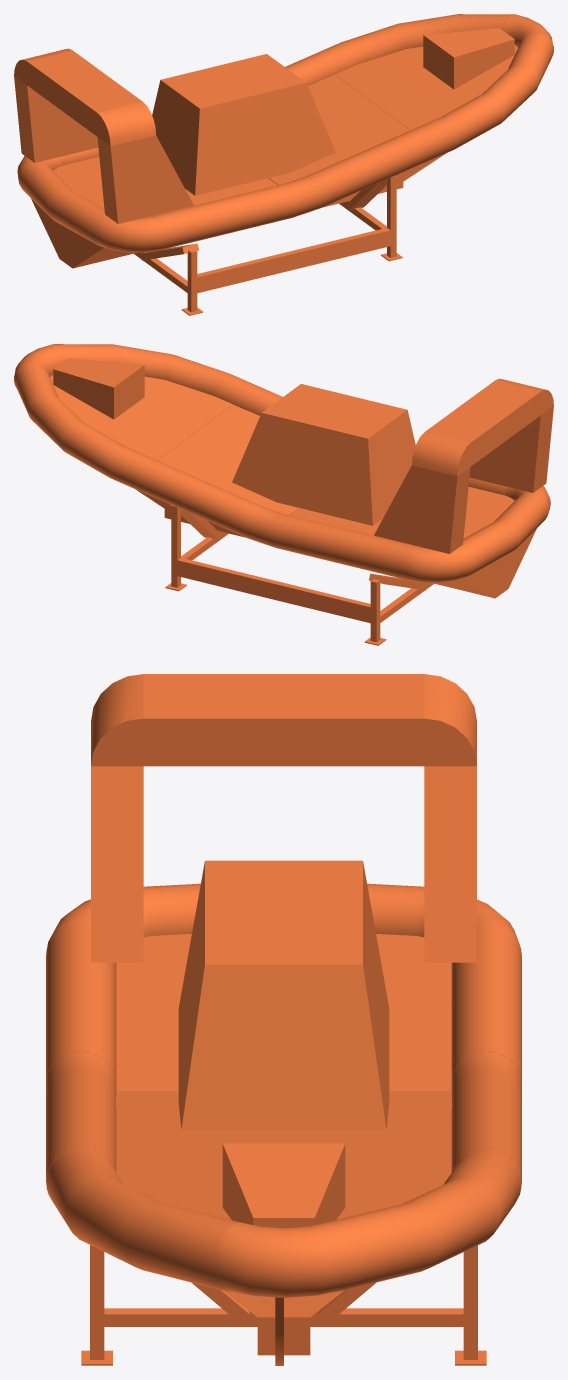
File: Image-1710907724662-2280941970352_76-SA52-Moved.fbx
The picture shows the model from 3 angles, top to bottom: view 1: azimuth 30°, elevation 25°; view 2: azimuth 150°, elevation 25°; view 3: azimuth 270°, elevation 25°; orthographic projection. The views are drawn at different scales.
Parts seen in each view (by area): view 1: PYRAMID 1 of SUBEQUIPMENT 3 of EQUIPMENT /76-SA52-Moved, PYRAMID 5 of SUBEQUIPMENT 3 of EQUIPMENT /76-SA52-Moved, PYRAMID 8 of SUBEQUIPMENT 3 of EQUIPMENT /76-SA52-Moved, CYLINDER 3 of SUBEQUIPMENT 3 of EQUIPMENT /76-SA52-Moved, PYRAMID 4 of SUBEQUIPMENT 3 of EQUIPMENT /76-SA52-Moved, BOX 1 of SUBEQUIPMENT 3 of EQUIPMENT /76-SA52-Moved, CYLINDER 1 of SUBEQUIPMENT 3 of EQUIPMENT /76-SA52-Moved, CTORUS 5 of SUBEQUIPMENT 3 of EQUIPMENT /76-SA52-Moved, PYRAMID 3 of SUBEQUIPMENT 3 of EQUIPMENT /76-SA52-Moved, PYRAMID 2 of SUBEQUIPMENT 3 of EQUIPMENT /76-SA52-Moved, PYRAMID 7 of SUBEQUIPMENT 3 of EQUIPMENT /76-SA52-Moved, BOX 18 of SUBEQUIPMENT 4 of EQUIPMENT /76-SA52-Moved (+15 smaller); view 2: PYRAMID 1 of SUBEQUIPMENT 3 of EQUIPMENT /76-SA52-Moved, PYRAMID 5 of SUBEQUIPMENT 3 of EQUIPMENT /76-SA52-Moved, PYRAMID 7 of SUBEQUIPMENT 3 of EQUIPMENT /76-SA52-Moved, CYLINDER 4 of SUBEQUIPMENT 3 of EQUIPMENT /76-SA52-Moved, PYRAMID 4 of SUBEQUIPMENT 3 of EQUIPMENT /76-SA52-Moved, BOX 1 of SUBEQUIPMENT 3 of EQUIPMENT /76-SA52-Moved, CYLINDER 2 of SUBEQUIPMENT 3 of EQUIPMENT /76-SA52-Moved, CTORUS 6 of SUBEQUIPMENT 3 of EQUIPMENT /76-SA52-Moved, PYRAMID 3 of SUBEQUIPMENT 3 of EQUIPMENT /76-SA52-Moved, PYRAMID 2 of SUBEQUIPMENT 3 of EQUIPMENT /76-SA52-Moved, PYRAMID 8 of SUBEQUIPMENT 3 of EQUIPMENT /76-SA52-Moved, BOX 17 of SUBEQUIPMENT 4 of EQUIPMENT /76-SA52-Moved (+16 smaller); view 3: PYRAMID 1 of SUBEQUIPMENT 3 of EQUIPMENT /76-SA52-Moved, BOX 1 of SUBEQUIPMENT 3 of EQUIPMENT /76-SA52-Moved, PYRAMID 3 of SUBEQUIPMENT 3 of EQUIPMENT /76-SA52-Moved, PYRAMID 4 of SUBEQUIPMENT 3 of EQUIPMENT /76-SA52-Moved, CTORUS 5 of SUBEQUIPMENT 3 of EQUIPMENT /76-SA52-Moved, CTORUS 6 of SUBEQUIPMENT 3 of EQUIPMENT /76-SA52-Moved, PYRAMID 7 of SUBEQUIPMENT 3 of EQUIPMENT /76-SA52-Moved, PYRAMID 8 of SUBEQUIPMENT 3 of EQUIPMENT /76-SA52-Moved, PYRAMID 2 of SUBEQUIPMENT 3 of EQUIPMENT /76-SA52-Moved, CTORUS 9 of SUBEQUIPMENT 3 of EQUIPMENT /76-SA52-Moved, CYLINDER 1 of SUBEQUIPMENT 3 of EQUIPMENT /76-SA52-Moved, CYLINDER 2 of SUBEQUIPMENT 3 of EQUIPMENT /76-SA52-Moved (+15 smaller).
Part boxes in pixels (box(x1,y1,x2,y2)): PYRAMID 1 of SUBEQUIPMENT 3 of EQUIPMENT /76-SA52-Moved: box(152, 54, 335, 195); PYRAMID 5 of SUBEQUIPMENT 3 of EQUIPMENT /76-SA52-Moved: box(334, 45, 517, 130); PYRAMID 8 of SUBEQUIPMENT 3 of EQUIPMENT /76-SA52-Moved: box(97, 135, 193, 223); CYLINDER 3 of SUBEQUIPMENT 3 of EQUIPMENT /76-SA52-Moved: box(306, 117, 456, 208); PYRAMID 4 of SUBEQUIPMENT 3 of EQUIPMENT /76-SA52-Moved: box(268, 75, 410, 185); BOX 1 of SUBEQUIPMENT 3 of EQUIPMENT /76-SA52-Moved: box(27, 50, 142, 136); CYLINDER 1 of SUBEQUIPMENT 3 of EQUIPMENT /76-SA52-Moved: box(152, 184, 296, 249); CTORUS 5 of SUBEQUIPMENT 3 of EQUIPMENT /76-SA52-Moved: box(441, 33, 553, 148); PYRAMID 3 of SUBEQUIPMENT 3 of EQUIPMENT /76-SA52-Moved: box(31, 157, 277, 268); PYRAMID 2 of SUBEQUIPMENT 3 of EQUIPMENT /76-SA52-Moved: box(423, 28, 514, 89); PYRAMID 7 of SUBEQUIPMENT 3 of EQUIPMENT /76-SA52-Moved: box(14, 76, 98, 162); BOX 18 of SUBEQUIPMENT 4 of EQUIPMENT /76-SA52-Moved: box(197, 228, 390, 293); PYRAMID 1 of SUBEQUIPMENT 3 of EQUIPMENT /76-SA52-Moved: box(232, 384, 415, 525); PYRAMID 5 of SUBEQUIPMENT 3 of EQUIPMENT /76-SA52-Moved: box(50, 375, 233, 460); PYRAMID 7 of SUBEQUIPMENT 3 of EQUIPMENT /76-SA52-Moved: box(374, 465, 470, 553); CYLINDER 4 of SUBEQUIPMENT 3 of EQUIPMENT /76-SA52-Moved: box(111, 447, 261, 538); PYRAMID 4 of SUBEQUIPMENT 3 of EQUIPMENT /76-SA52-Moved: box(157, 405, 299, 515); BOX 1 of SUBEQUIPMENT 3 of EQUIPMENT /76-SA52-Moved: box(425, 380, 540, 466); CYLINDER 2 of SUBEQUIPMENT 3 of EQUIPMENT /76-SA52-Moved: box(271, 514, 414, 579); CTORUS 6 of SUBEQUIPMENT 3 of EQUIPMENT /76-SA52-Moved: box(14, 363, 126, 478); PYRAMID 3 of SUBEQUIPMENT 3 of EQUIPMENT /76-SA52-Moved: box(290, 487, 536, 598); PYRAMID 2 of SUBEQUIPMENT 3 of EQUIPMENT /76-SA52-Moved: box(53, 358, 144, 419); PYRAMID 8 of SUBEQUIPMENT 3 of EQUIPMENT /76-SA52-Moved: box(469, 406, 553, 492); BOX 17 of SUBEQUIPMENT 4 of EQUIPMENT /76-SA52-Moved: box(177, 558, 370, 623); PYRAMID 1 of SUBEQUIPMENT 3 of EQUIPMENT /76-SA52-Moved: box(178, 860, 389, 1129); BOX 1 of SUBEQUIPMENT 3 of EQUIPMENT /76-SA52-Moved: box(143, 674, 424, 766); PYRAMID 3 of SUBEQUIPMENT 3 of EQUIPMENT /76-SA52-Moved: box(116, 934, 451, 1090); PYRAMID 4 of SUBEQUIPMENT 3 of EQUIPMENT /76-SA52-Moved: box(116, 1091, 451, 1317); CTORUS 5 of SUBEQUIPMENT 3 of EQUIPMENT /76-SA52-Moved: box(46, 1148, 244, 1292); CTORUS 6 of SUBEQUIPMENT 3 of EQUIPMENT /76-SA52-Moved: box(323, 1148, 521, 1292); PYRAMID 7 of SUBEQUIPMENT 3 of EQUIPMENT /76-SA52-Moved: box(424, 766, 476, 962); PYRAMID 8 of SUBEQUIPMENT 3 of EQUIPMENT /76-SA52-Moved: box(91, 766, 143, 962); PYRAMID 2 of SUBEQUIPMENT 3 of EQUIPMENT /76-SA52-Moved: box(222, 1143, 345, 1228); CTORUS 9 of SUBEQUIPMENT 3 of EQUIPMENT /76-SA52-Moved: box(213, 1222, 354, 1297); CYLINDER 1 of SUBEQUIPMENT 3 of EQUIPMENT /76-SA52-Moved: box(46, 923, 116, 1082); CYLINDER 2 of SUBEQUIPMENT 3 of EQUIPMENT /76-SA52-Moved: box(451, 923, 521, 1082).
Bounding box in the file's own units: 6.54 × 2.71 × 2.57.
